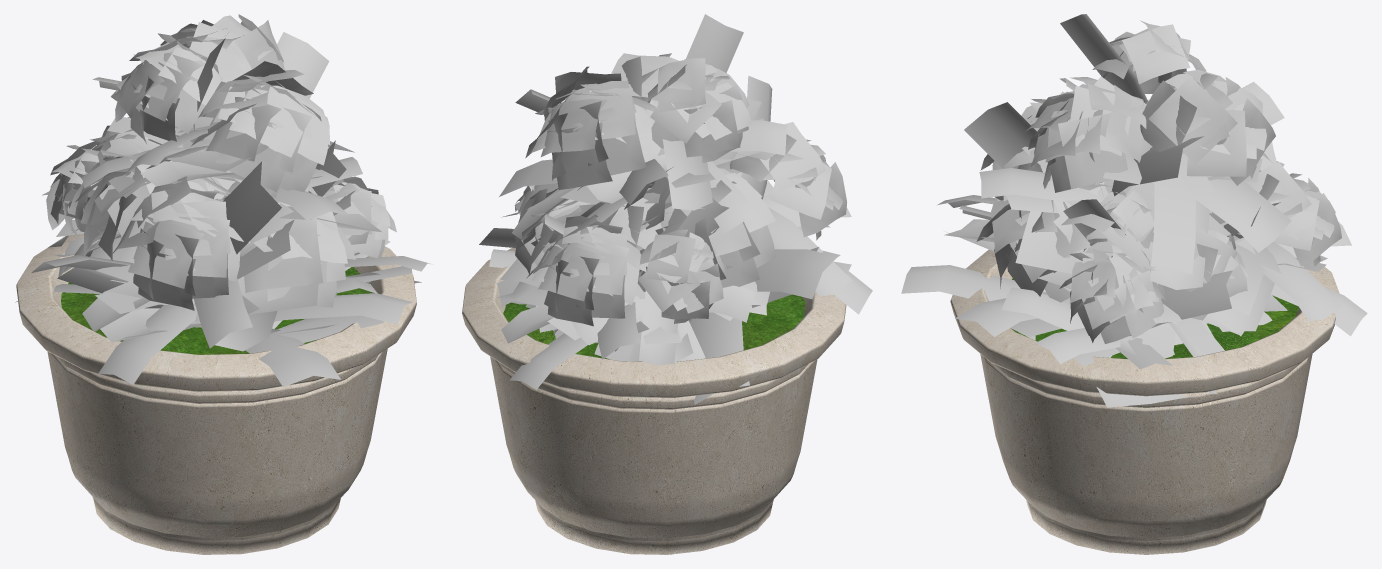
Rendered from chaucay_5.fbx.
The picture shows the model from 3 angles, left to right: view 1: azimuth 30°, elevation 25°; view 2: azimuth 150°, elevation 25°; view 3: azimuth 270°, elevation 25°; orthographic projection. The views are drawn at different scales.
Parts seen in each view (by area): view 1: chaucay_E; view 2: chaucay_E; view 3: chaucay_E.
Part boxes in pixels (x1,y1,x2,y2): chaucay_E: (15, 14, 430, 554); chaucay_E: (462, 14, 872, 554); chaucay_E: (901, 14, 1367, 554).
Size of the model in its own units: 40.24 by 52.45 by 46.17.
